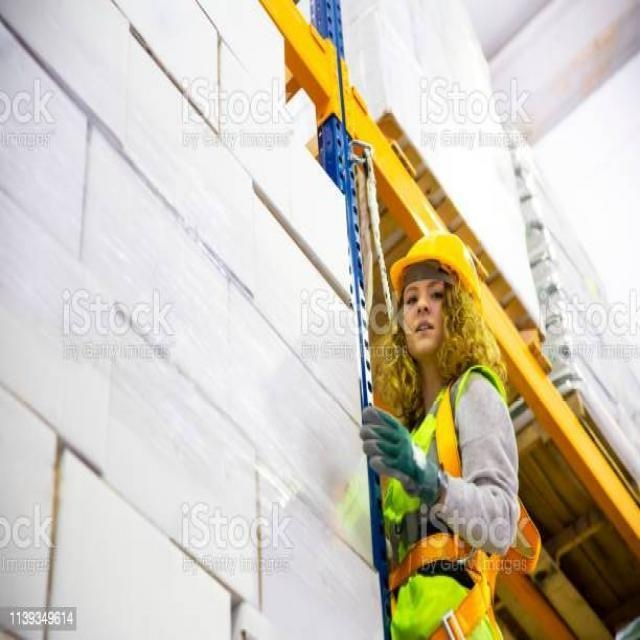Arnes_seguridad: (374, 370, 543, 640)
